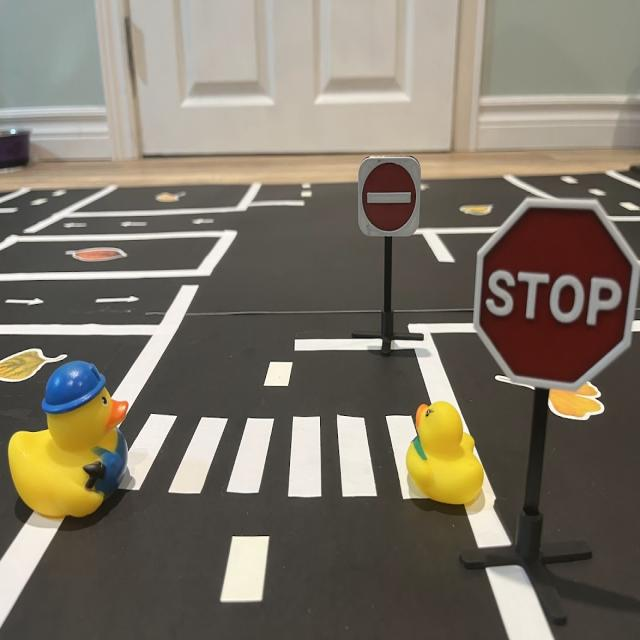duck_regular: (404, 402, 488, 511)
duck_specialty: (9, 361, 130, 525)
road_crosswalk: (118, 408, 447, 507)
road_oneway: (94, 292, 144, 310), (3, 292, 47, 312), (118, 216, 151, 231), (191, 213, 218, 231), (62, 220, 92, 234)
sign_noentry: (358, 158, 423, 242)
sign_stop: (474, 199, 640, 392)
